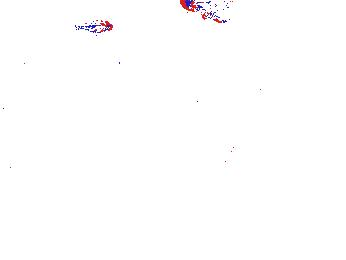X-ray fish: (116, 119, 160, 149)
red belly glassfish: (77, 19, 113, 34), (258, 82, 276, 99)
redtail glassfish: (179, 1, 232, 26)
